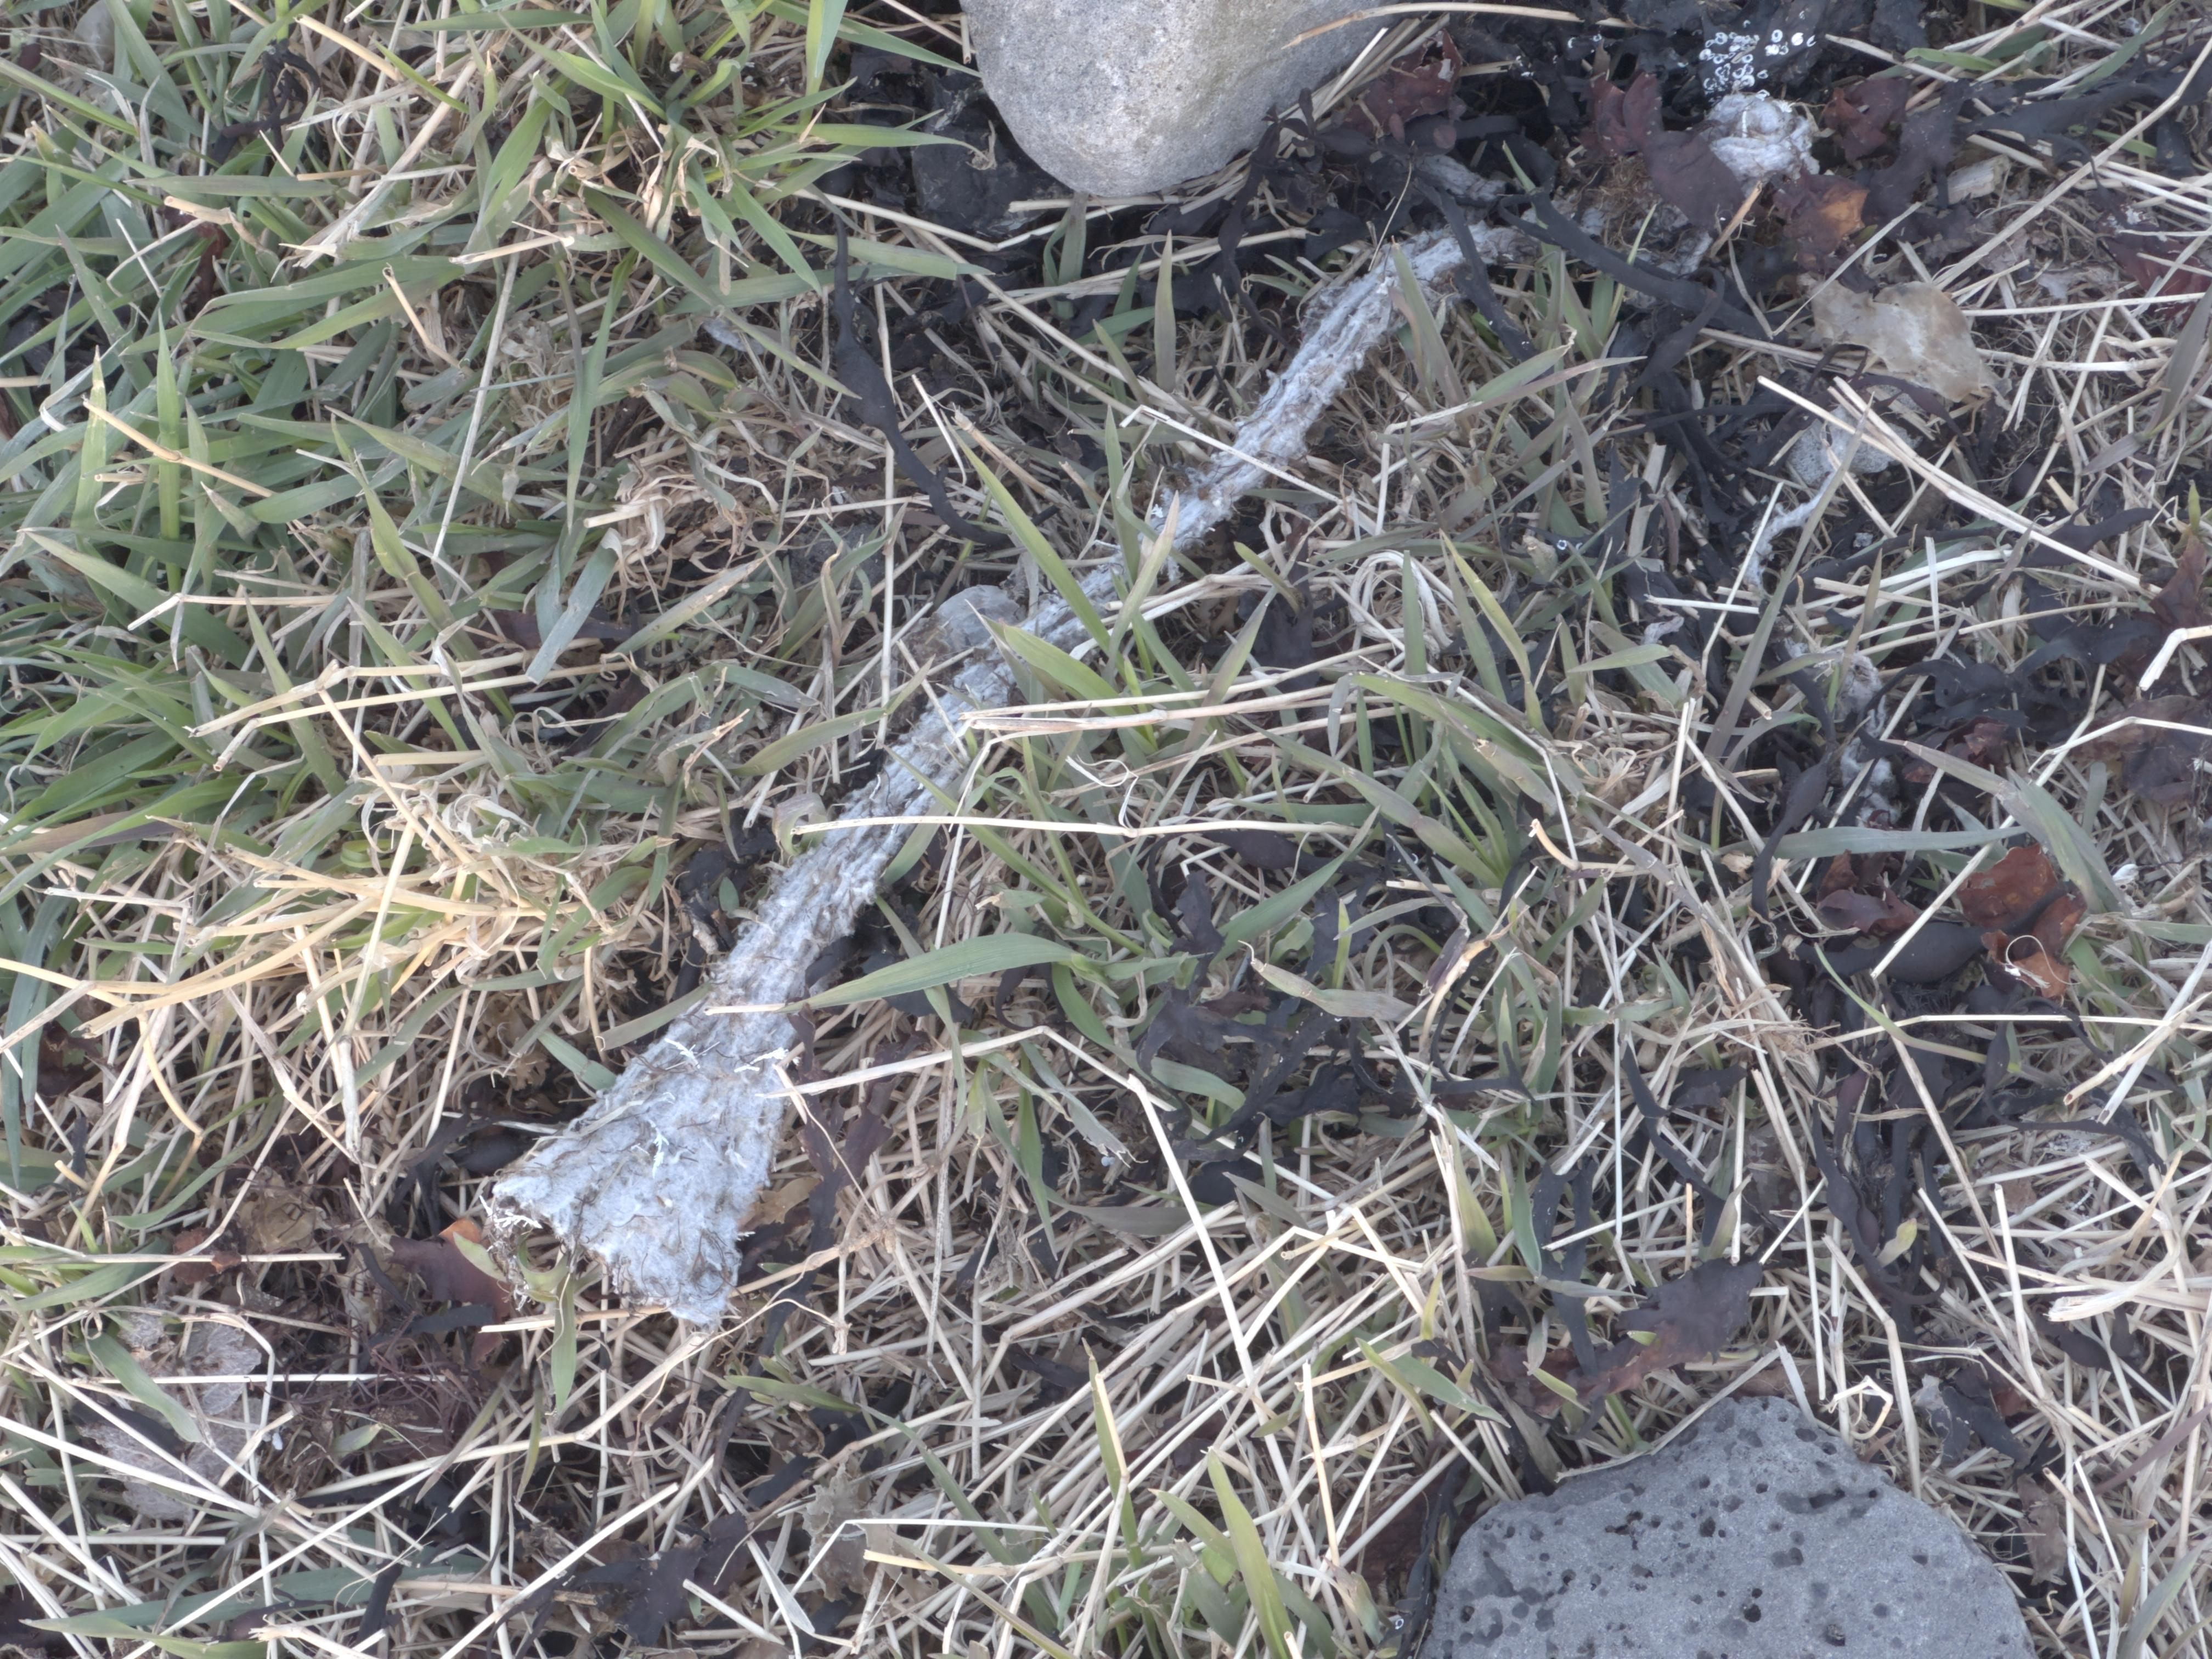trash: (488, 644, 1015, 1327), (1145, 259, 1400, 583), (1024, 553, 1132, 652)
